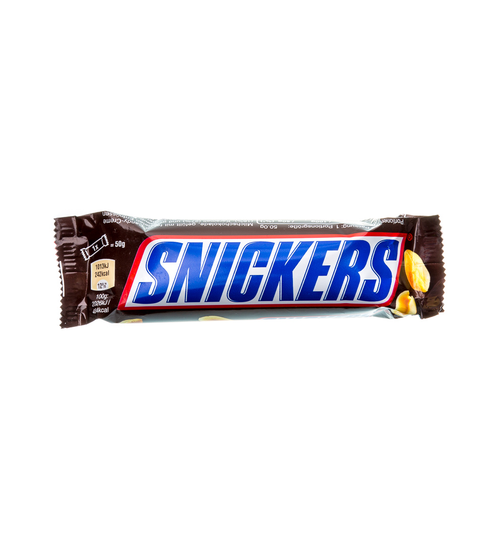snickers: (131, 239, 398, 302)
